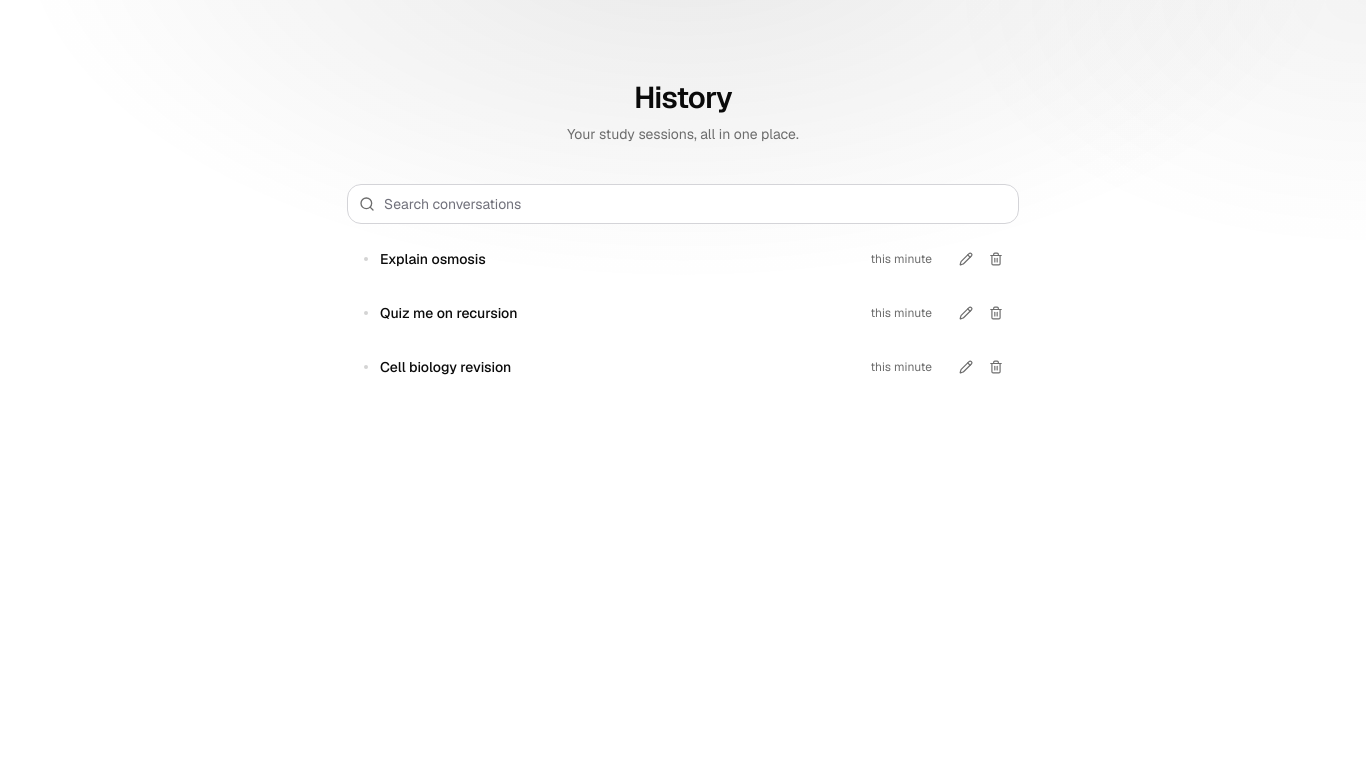
Test: HistoryClient — delete › asks for confirmation, then removes the conversation
Click the button named "Delete conversation" in the row of "Explain osmosis" at (996, 259), box left=982, top=245, right=1010, bottom=273
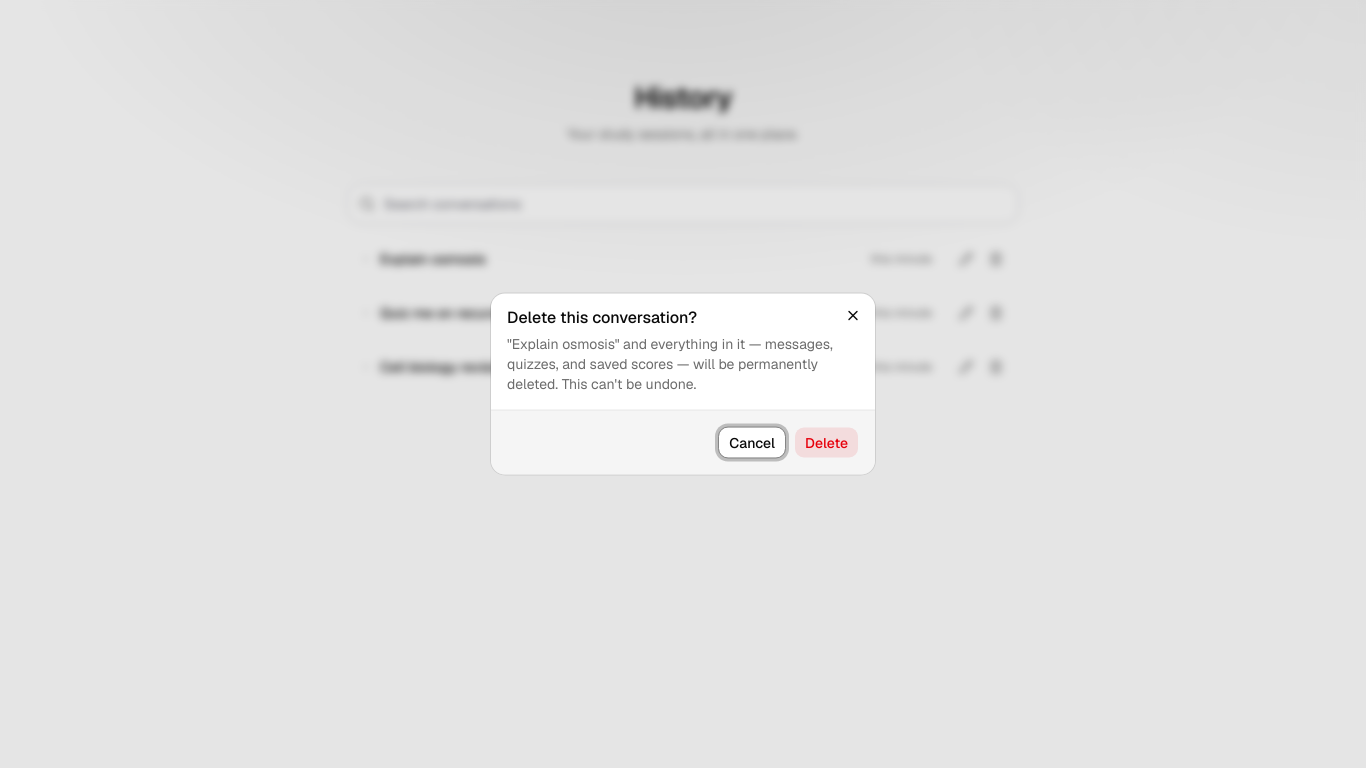
Now the dialog "Delete this conversation?" shows "\"Explain osmosis\"", box left=507, top=334, right=833, bottom=392
Click the button "Delete" at (826, 442), box left=794, top=426, right=859, bottom=458
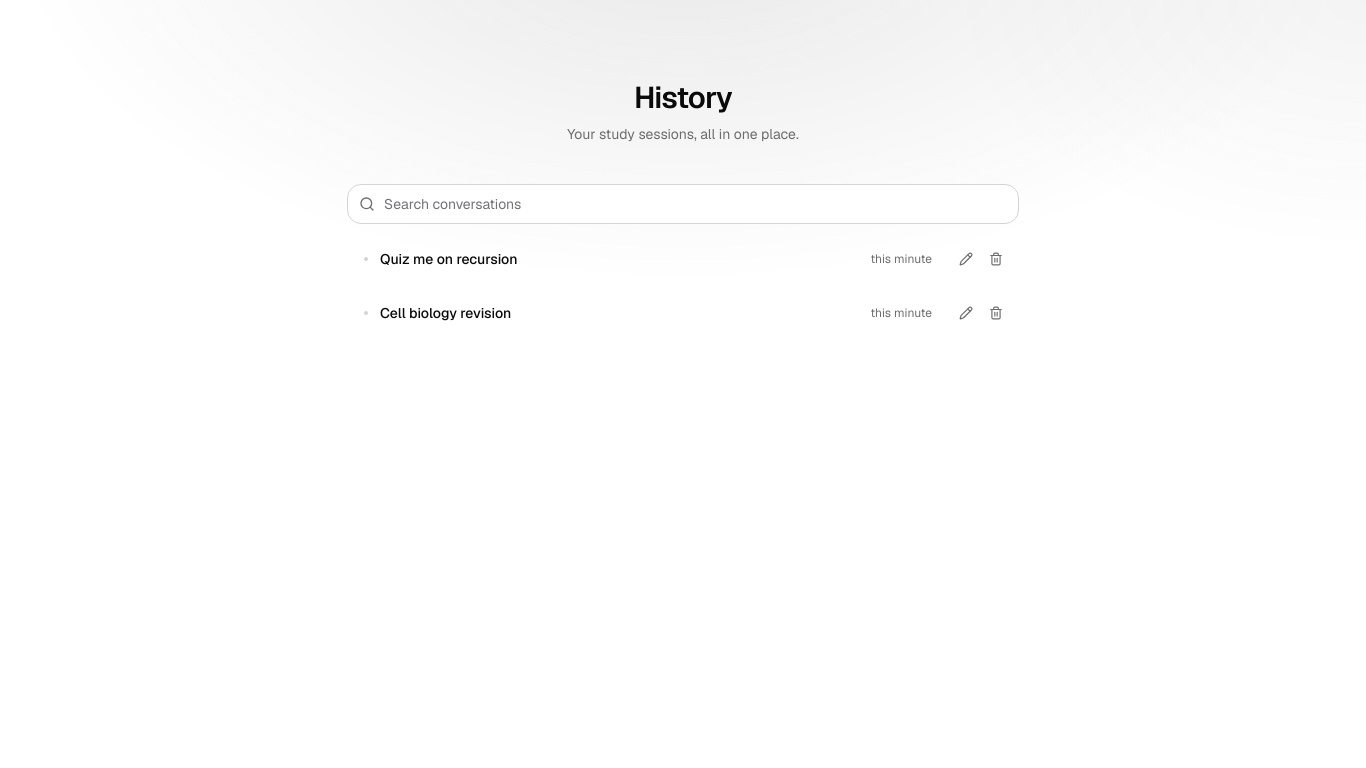
Now the number of list items is 2, box left=347, top=236, right=1019, bottom=282; left=347, top=290, right=1019, bottom=336
Now the link "Explain osmosis" is gone
